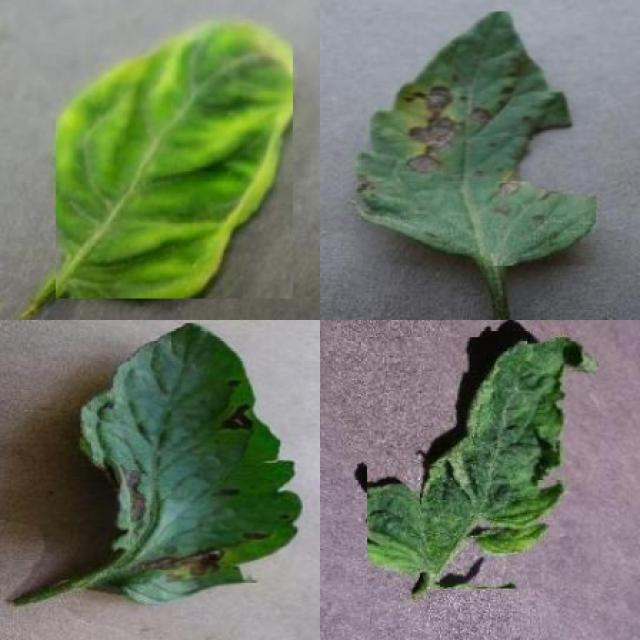Early Blight: (76, 323, 303, 606), (356, 11, 596, 266)
Mosaic Virus: (368, 337, 599, 589)
Yellow Leaf Curl Virus: (56, 18, 294, 298)
